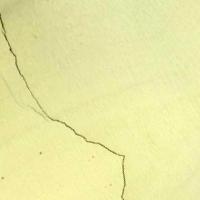crack: (0, 10, 137, 199)
